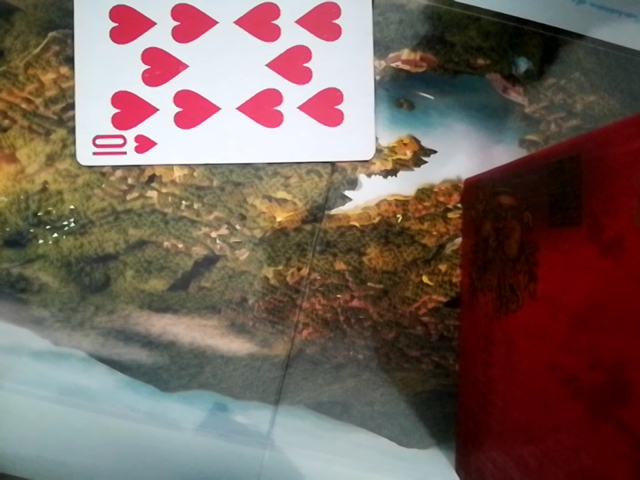hx 10: (65, 0, 372, 165)
